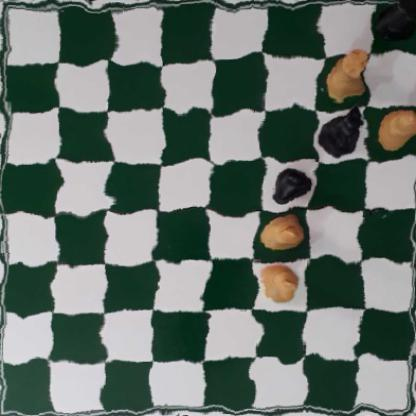black-king: (315, 106, 369, 156)
black-pawn: (271, 163, 310, 207)
black-rook: (376, 0, 416, 43)
white-bishop: (261, 210, 303, 252)
white-king: (252, 258, 303, 305)
white-pawn: (375, 108, 416, 153)
white-rook: (322, 46, 372, 98)
